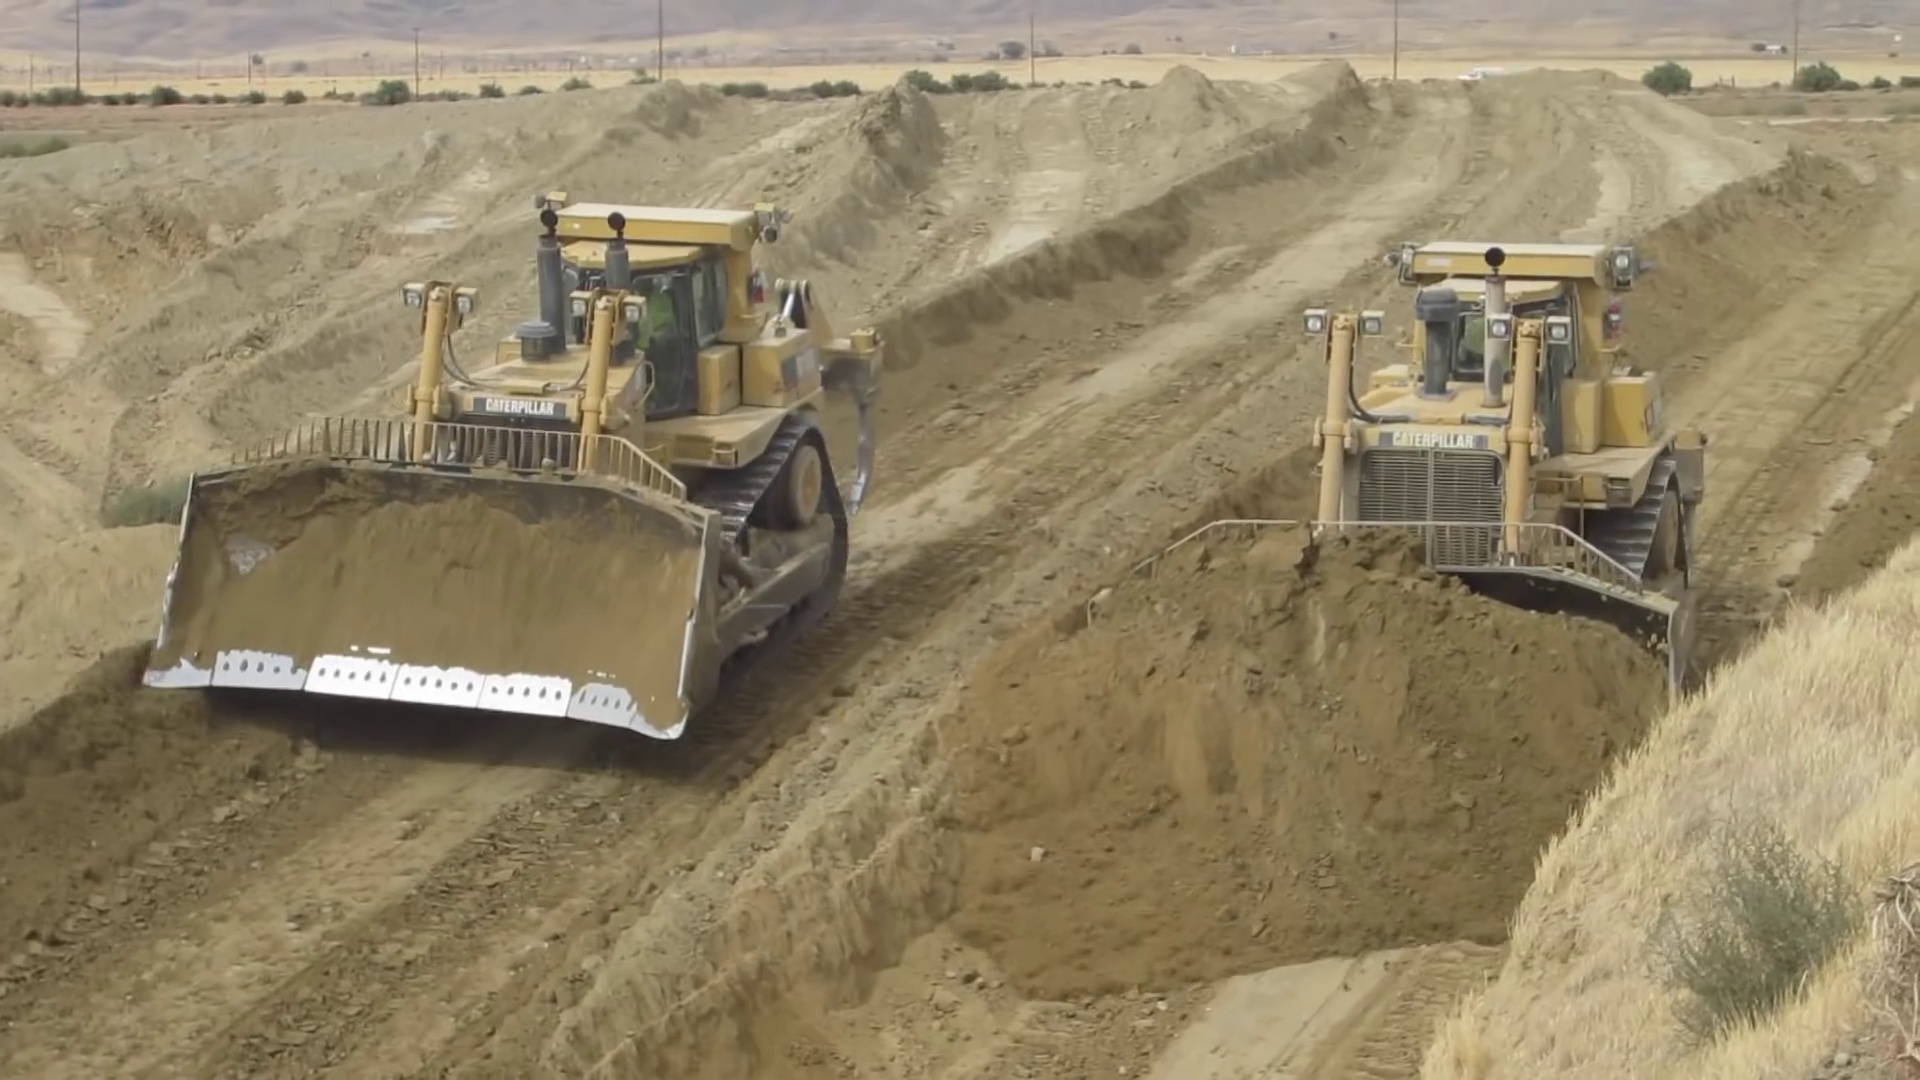bulldozer: (135, 191, 884, 745), (1118, 235, 1706, 783)
